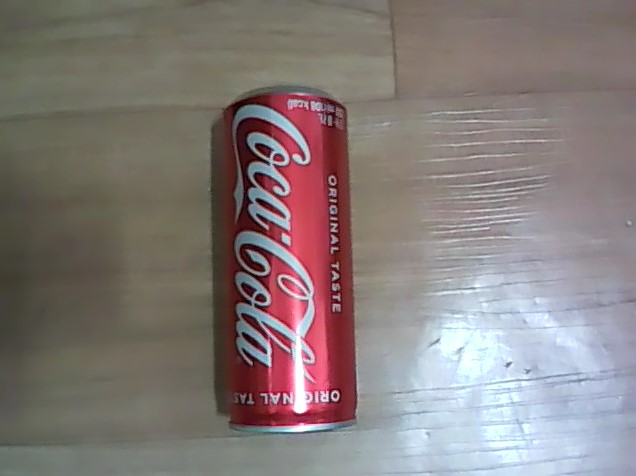Can: (199, 74, 366, 439)
